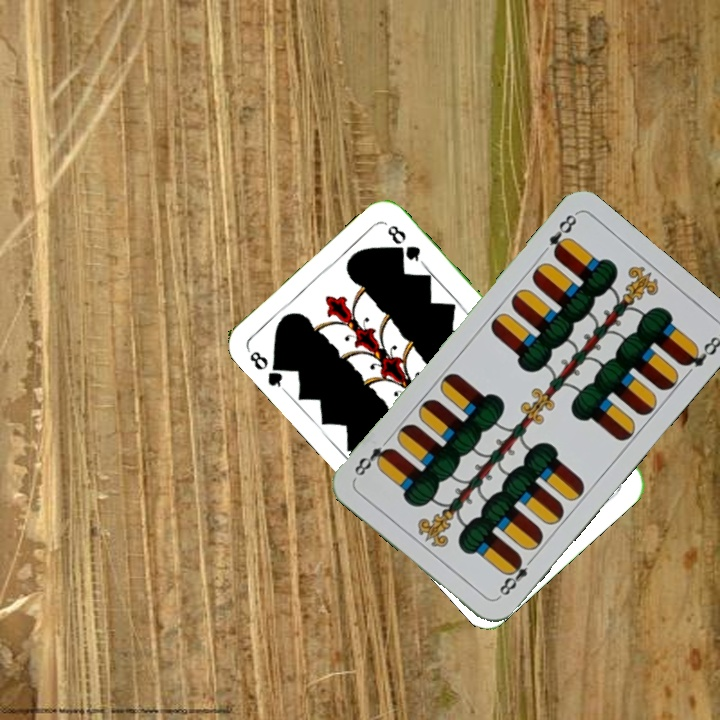E8: (492, 552, 537, 601), (545, 210, 580, 260)
G8: (244, 346, 289, 394)
